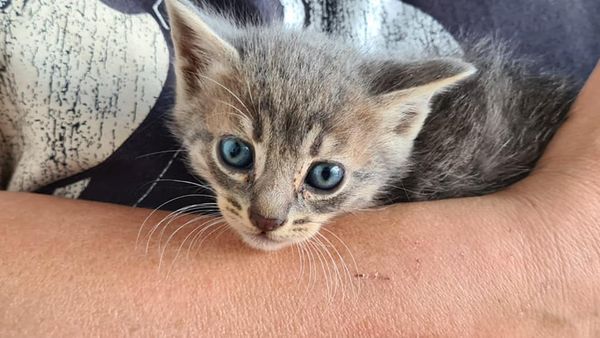cat: (125, 2, 590, 289)
